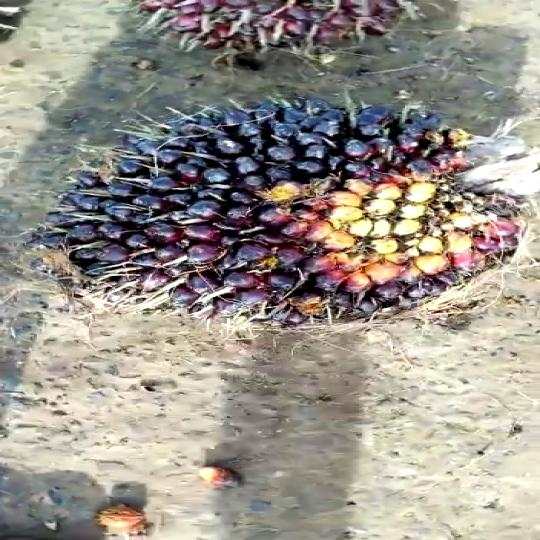mentah: (32, 80, 536, 344)
